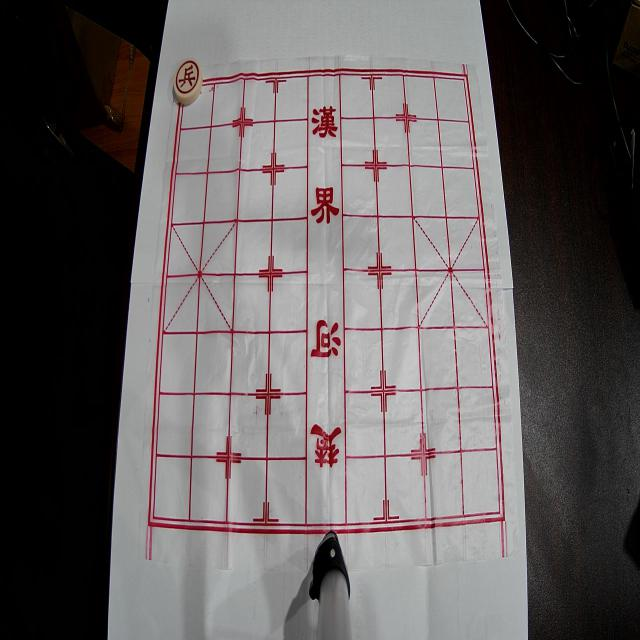red-soldier: (174, 58, 202, 105)
